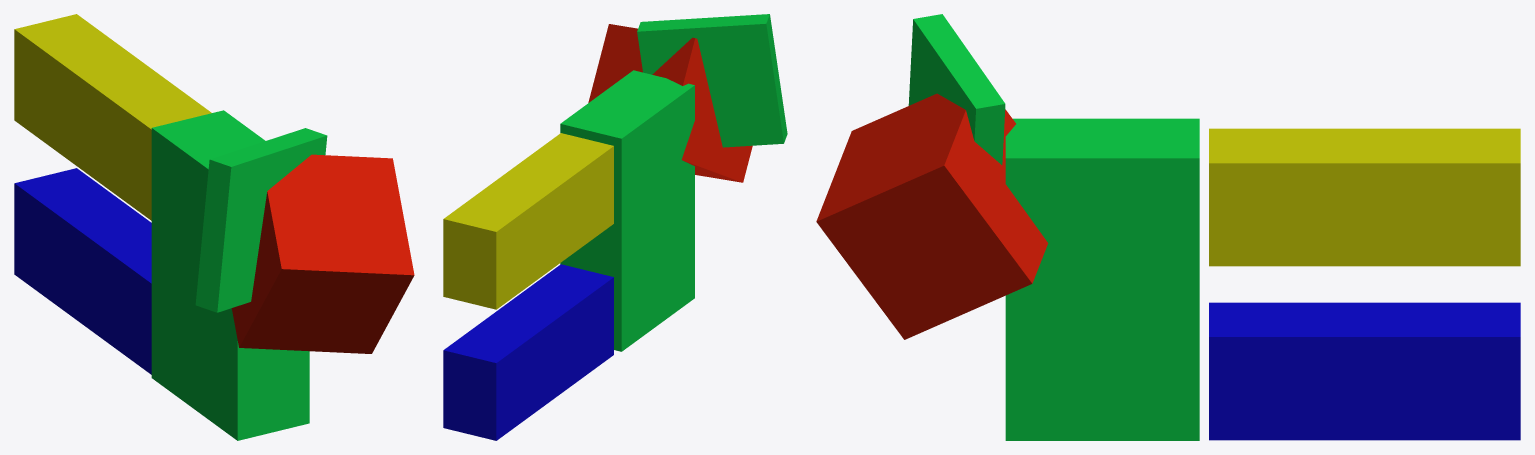
The picture shows the model from 3 angles, left to right: view 1: azimuth 30°, elevation 25°; view 2: azimuth 150°, elevation 25°; view 3: azimuth 270°, elevation 25°; orthographic projection. The views are drawn at different scales.
Parts seen in each view (by area): view 1: head, torso, right_leg, left_leg, hat; view 2: torso, left_leg, right_leg, hat, head; view 3: torso, left_leg, right_leg, head, hat.
Part boxes in pixels (bbox=[...]): head: bbox=[231, 154, 414, 353]; torso: bbox=[151, 110, 309, 440]; right_leg: bbox=[14, 14, 211, 220]; left_leg: bbox=[14, 168, 151, 374]; hat: bbox=[195, 128, 327, 312]; torso: bbox=[560, 70, 694, 351]; left_leg: bbox=[443, 264, 613, 440]; right_leg: bbox=[443, 133, 613, 309]; hat: bbox=[637, 14, 787, 147]; head: bbox=[588, 24, 752, 182]; torso: bbox=[1005, 118, 1199, 440]; left_leg: bbox=[1209, 302, 1520, 440]; right_leg: bbox=[1209, 128, 1520, 266]; head: bbox=[816, 93, 1048, 339]; hat: bbox=[908, 14, 1005, 164].
Size of the model in its own units: 1.68 by 2.54 by 4.52.
